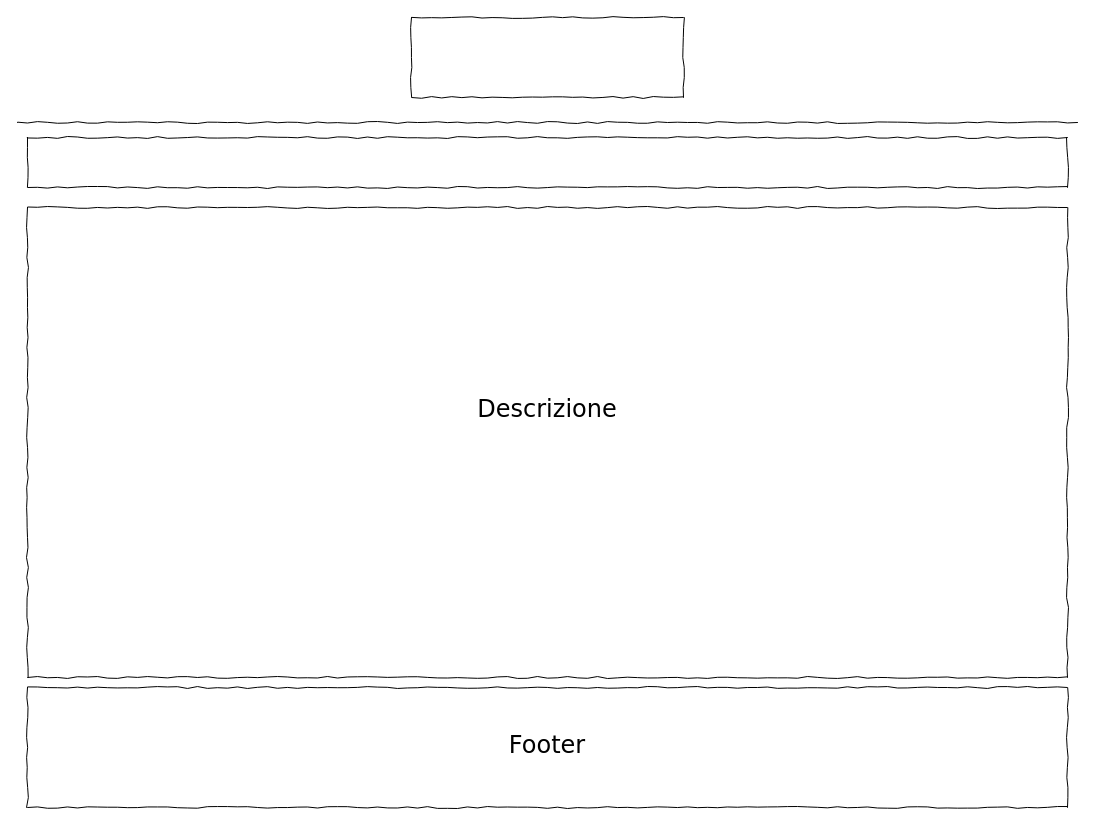
Some shapes in this 1095 by 825 pixel diagram are drawn without their labels. The centre of each missing label's shape, as x and y in pixels:
Navbar: the point at 547,162
Nome Sito e Logo: the point at 547,57
